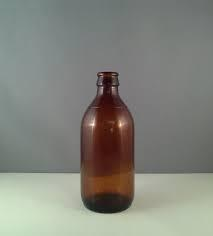Glass bottle: (59, 65, 151, 226)
